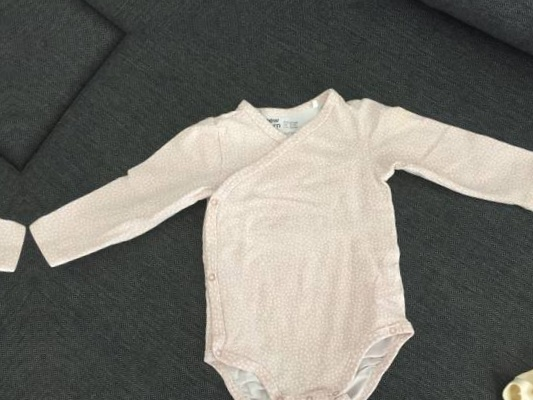Body: (22, 62, 533, 400), (0, 127, 46, 400), (62, 389, 533, 400)
